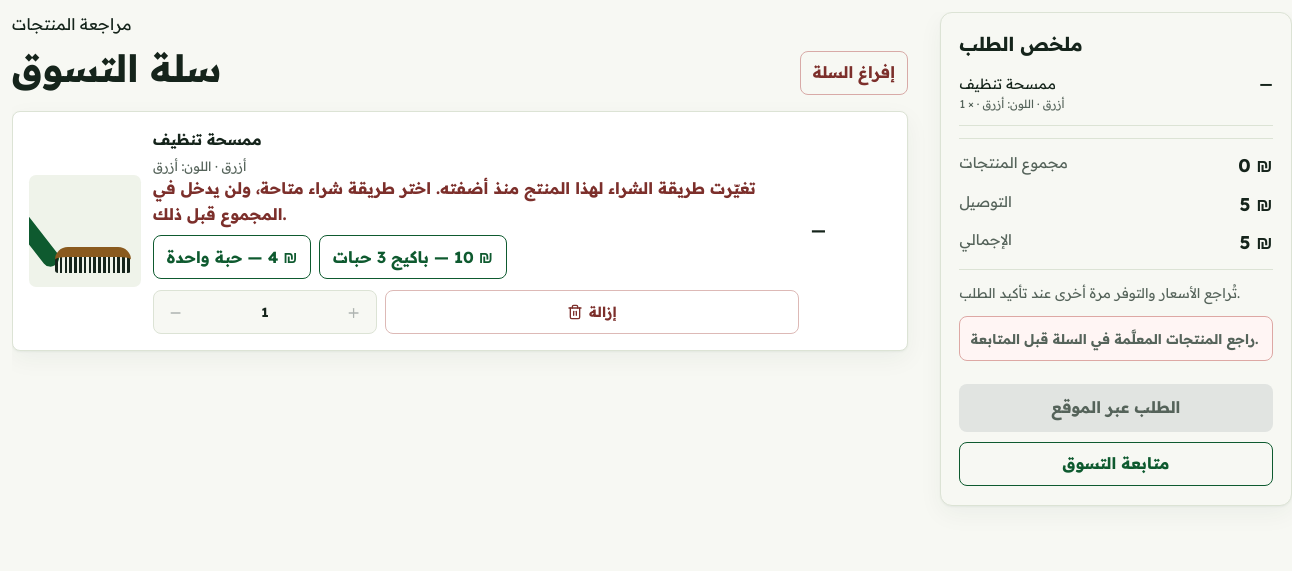
Test: cart page › asks for a new choice when the unit was archived or changed
This screenshot has width=1292, height=571.
Expected: the text "تغيّرت طريقة الشراء لهذا المنتج" is shown, x1=153 y1=178 x2=756 y2=224
Expected: the element named "مجموع المنتجات 0 ₪" is shown, x1=1238 y1=151 x2=1273 y2=181
Click the button "باكيج 3 حبات — 10 ₪" at {"x": 413, "y": 257}, box x1=319 y1=235 x2=507 y2=279
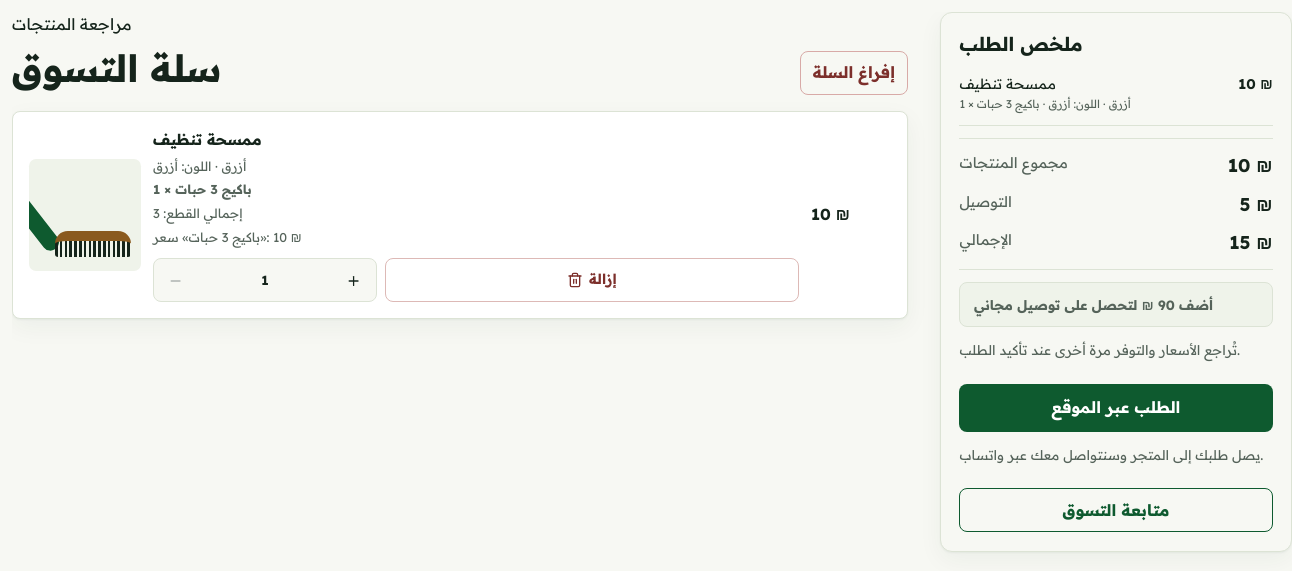
Expected: the text "باكيج 3 حبات × 1" is shown, x1=153 y1=181 x2=252 y2=197
Expected: the element named "مجموع المنتجات 10 ₪" is shown, x1=1228 y1=151 x2=1273 y2=181
